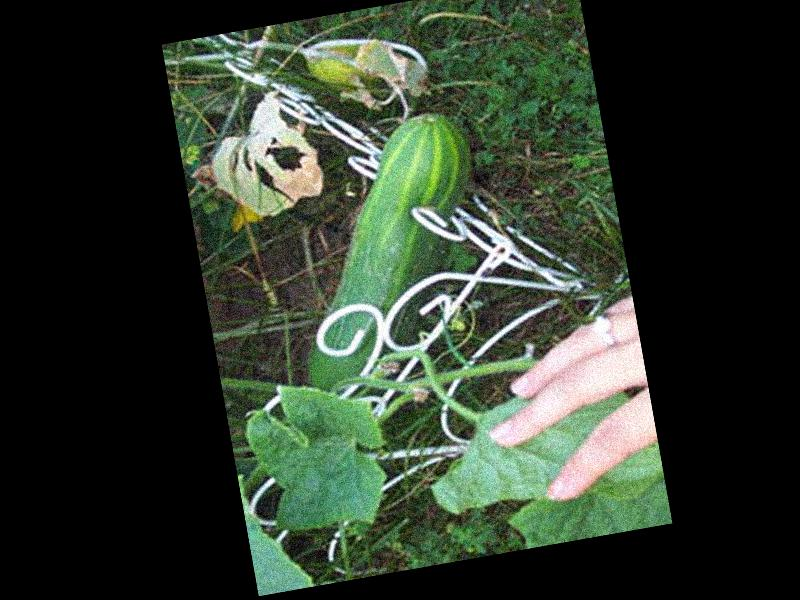Cucumber: (266, 107, 505, 397)
